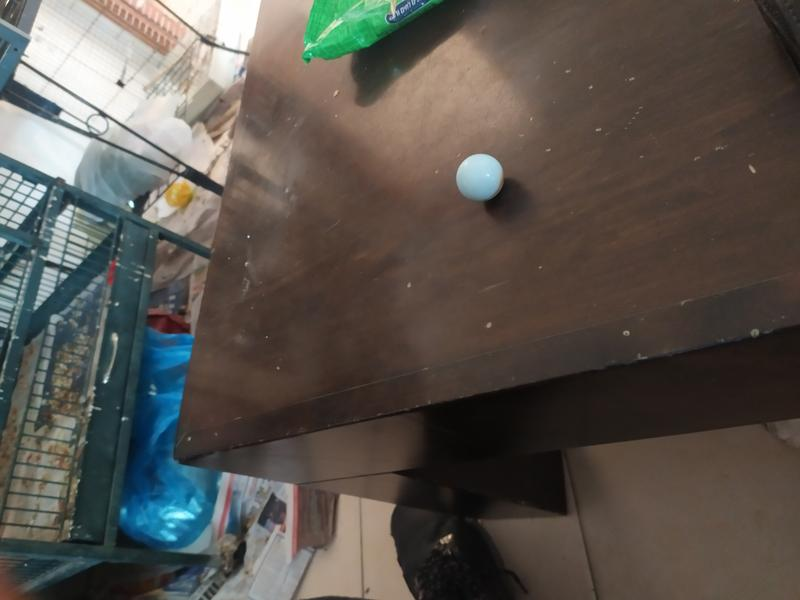Warning: (453, 151, 507, 204)
